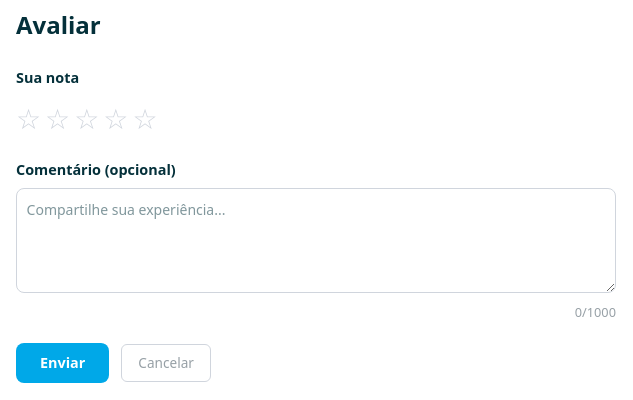
Test: ReviewFormComponent › should show success message and back-to-profile button after successful submission
The width and height of the screenshot is (633, 400).
// Select a rating
Click the 5th button with test id "star-btn" at (145, 118), box x1=132 y1=97 x2=158 y2=139
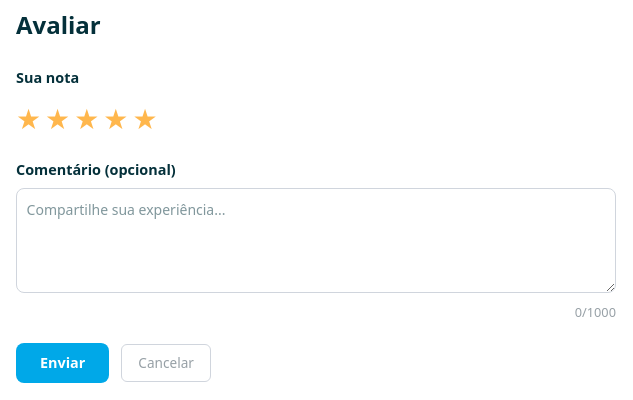
Click the button with test id "submit-btn" at (63, 363), box x1=16 y1=343 x2=109 y2=383
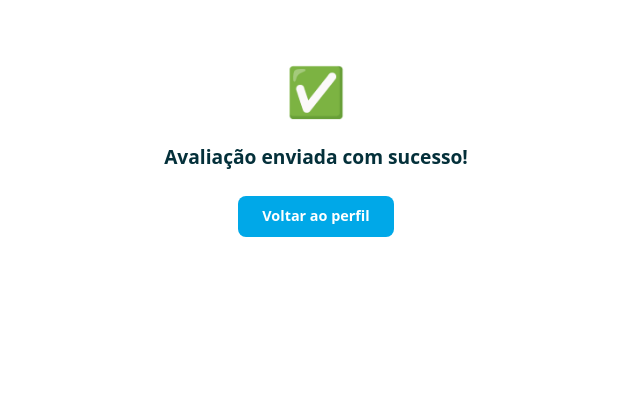
Expected: the element with test id "success-state" is shown, x1=164 y1=58 x2=468 y2=237
Expected: the text "Avaliação enviada com sucesso!" is shown, x1=164 y1=143 x2=468 y2=170
Expected: the link with test id "back-to-profile-btn" reads "Voltar ao perfil", x1=238 y1=196 x2=394 y2=237
